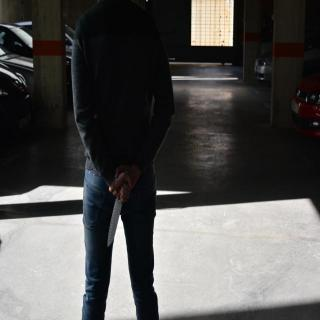knife: (106, 170, 128, 250)
